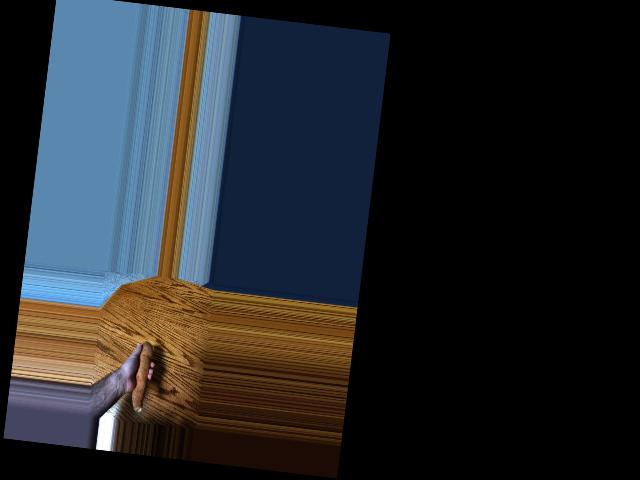sweet_potato: (125, 335, 157, 414)
